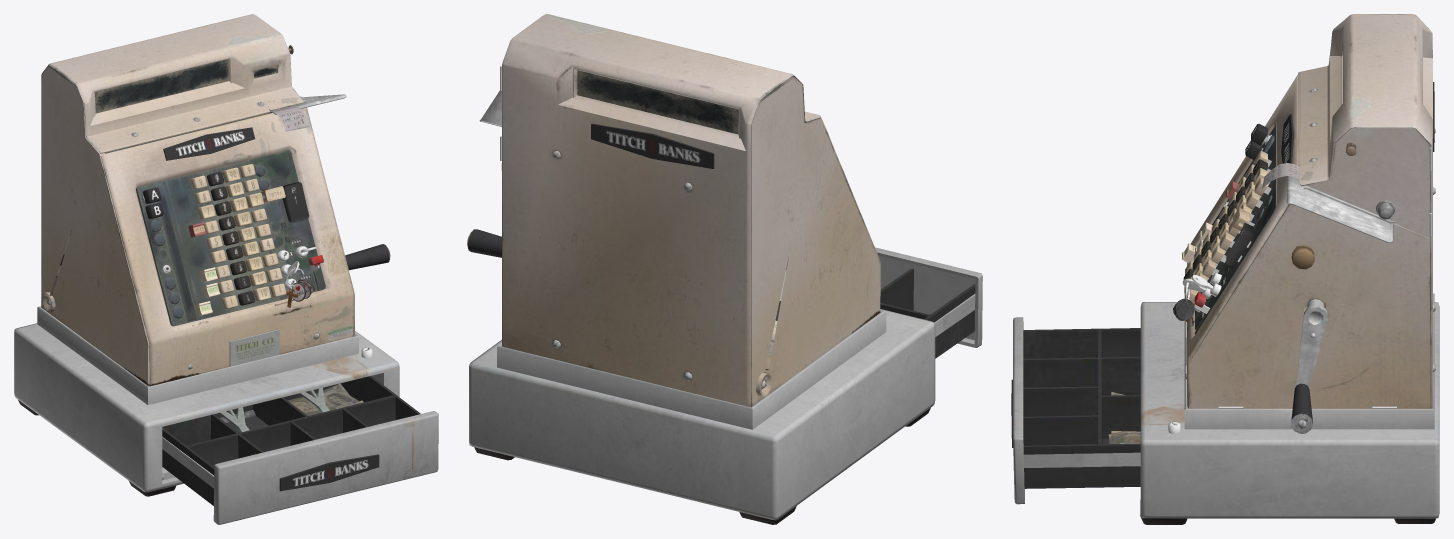
Rendered from CashRegister_01.gltf.
3 views of the same model, side by side, from view 1: azimuth 30°, elevation 25°; view 2: azimuth 150°, elevation 25°; view 3: azimuth 270°, elevation 25° (orthographic). The views are drawn at different scales.
Parts seen in each view (by area): view 1: CashRegister_01_body, CashRegister_011_drawer; view 2: CashRegister_01_body, CashRegister_011_drawer; view 3: CashRegister_01_body, CashRegister_011_drawer.
Part boxes in pixels (box(x1,y1,x2,y2)): CashRegister_01_body: box(14, 14, 399, 496); CashRegister_011_drawer: box(162, 376, 438, 524); CashRegister_01_body: box(467, 14, 935, 524); CashRegister_011_drawer: box(875, 247, 982, 358); CashRegister_01_body: box(1140, 14, 1439, 524); CashRegister_011_drawer: box(1011, 317, 1140, 504).
Bounding box in the file's own units: 0.6005 × 0.6214 × 0.6242.
Materials: 2 (2 with a texture image).
